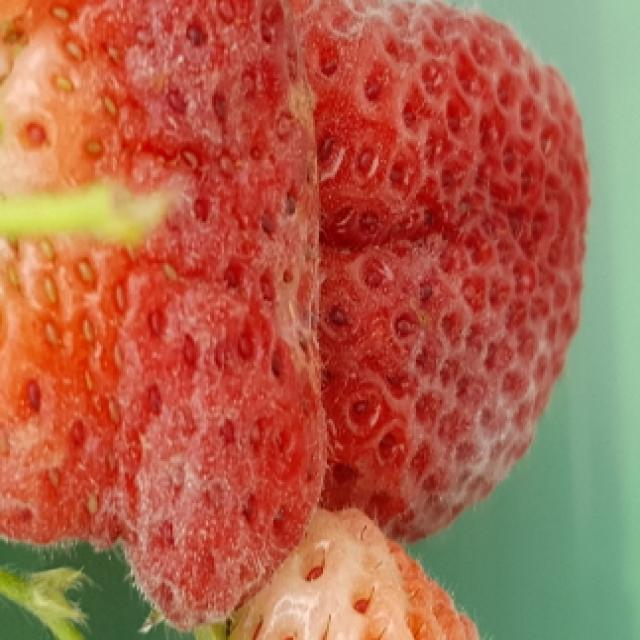Powdery Mildew Fruit: (290, 0, 594, 547)
